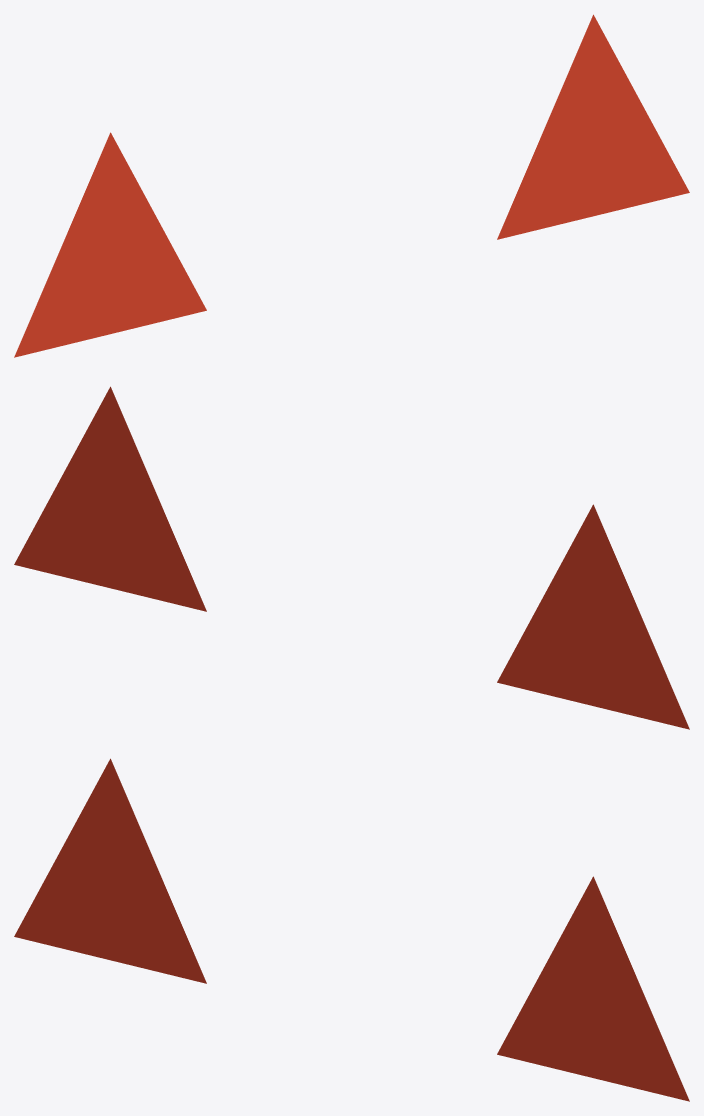
Rendered from __test_bug094_instanced_triangle.gltf.
The picture shows the model from 3 angles, top to bottom: view 1: azimuth 30°, elevation 25°; view 2: azimuth 150°, elevation 25°; view 3: azimuth 330°, elevation 25°; orthographic projection.
Visible parts, largest first — view 1: BUG094LeftInstance, BUG094RightInstance; view 2: BUG094LeftInstance, BUG094RightInstance; view 3: BUG094RightInstance, BUG094LeftInstance.
Boxes of the visible parts, bbox=[...] form: BUG094LeftInstance: bbox=[14, 132, 206, 357]; BUG094RightInstance: bbox=[497, 14, 689, 239]; BUG094LeftInstance: bbox=[497, 504, 689, 729]; BUG094RightInstance: bbox=[14, 386, 206, 611]; BUG094RightInstance: bbox=[497, 876, 689, 1101]; BUG094LeftInstance: bbox=[14, 758, 206, 983].
Bounding box in the file's own units: 2.8 × 0.8 × 0.
